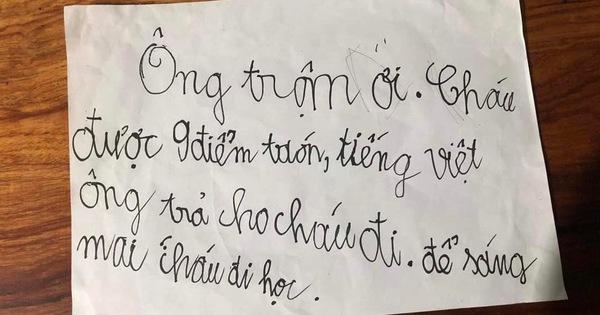text: (78, 167, 541, 289), (138, 24, 519, 129), (70, 105, 485, 201), (75, 230, 322, 310)
